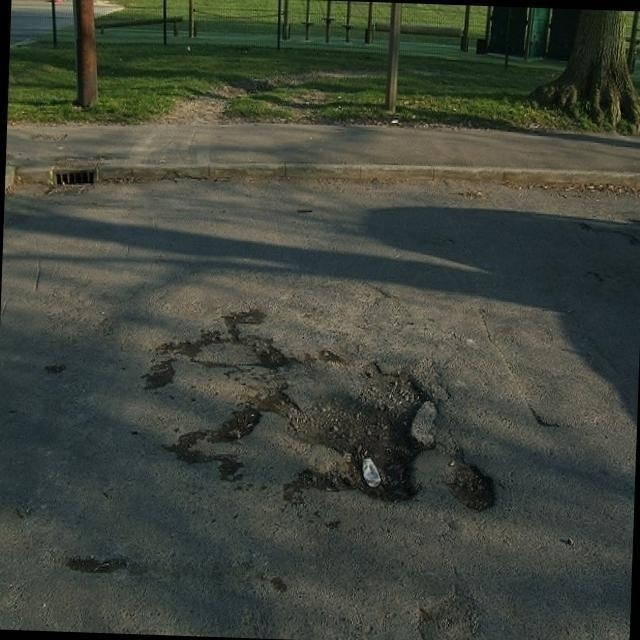pothole: (306, 346, 434, 507), (450, 452, 510, 530)
